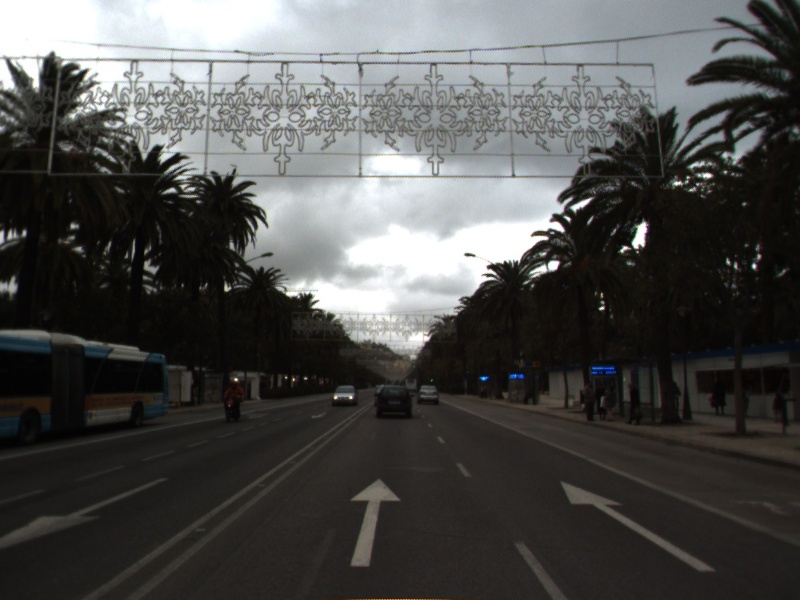STRAIGHT: (558, 477, 721, 575), (346, 474, 403, 570)
